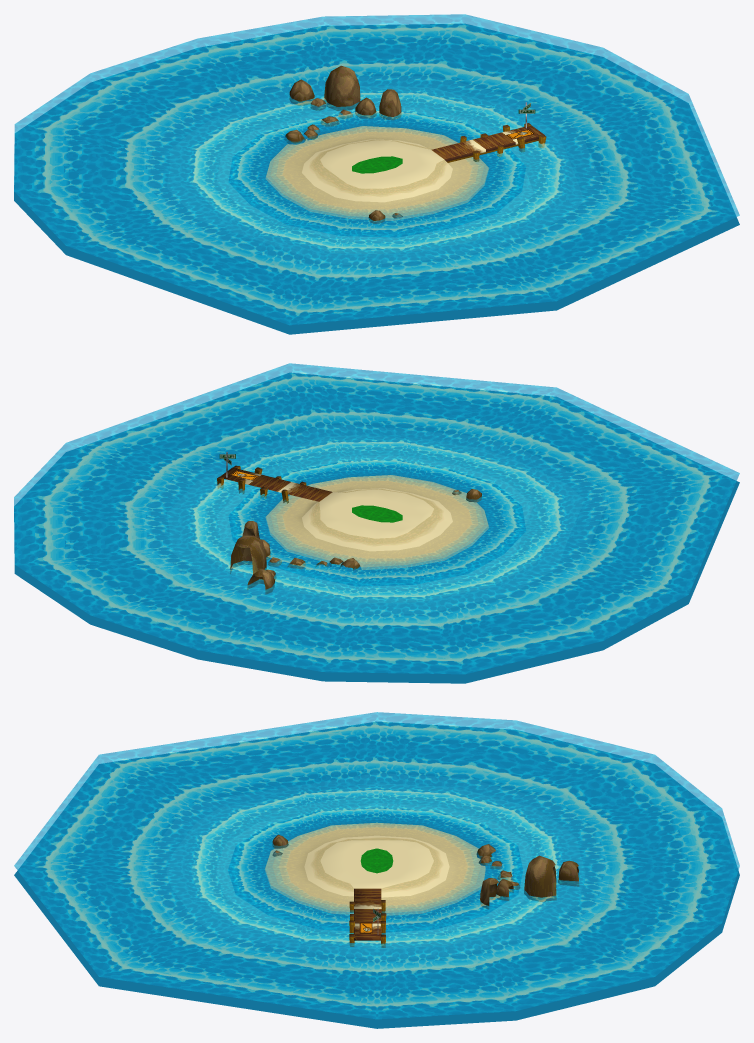
3 renders of one model, top to bottom at view 1: azimuth 30°, elevation 25°; view 2: azimuth 150°, elevation 25°; view 3: azimuth 270°, elevation 25°, orthographic.
Parts seen in each view (by area): view 1: kotou; view 2: kotou; view 3: kotou.
Part boxes in pixels (box(x1,y1,x2,y2)): kotou: box(14, 14, 739, 334); kotou: box(14, 363, 739, 683); kotou: box(14, 712, 739, 1028).
Size of the model in its own units: 9.88 by 0.6572 by 9.87.
19 materials, 19 textured.
